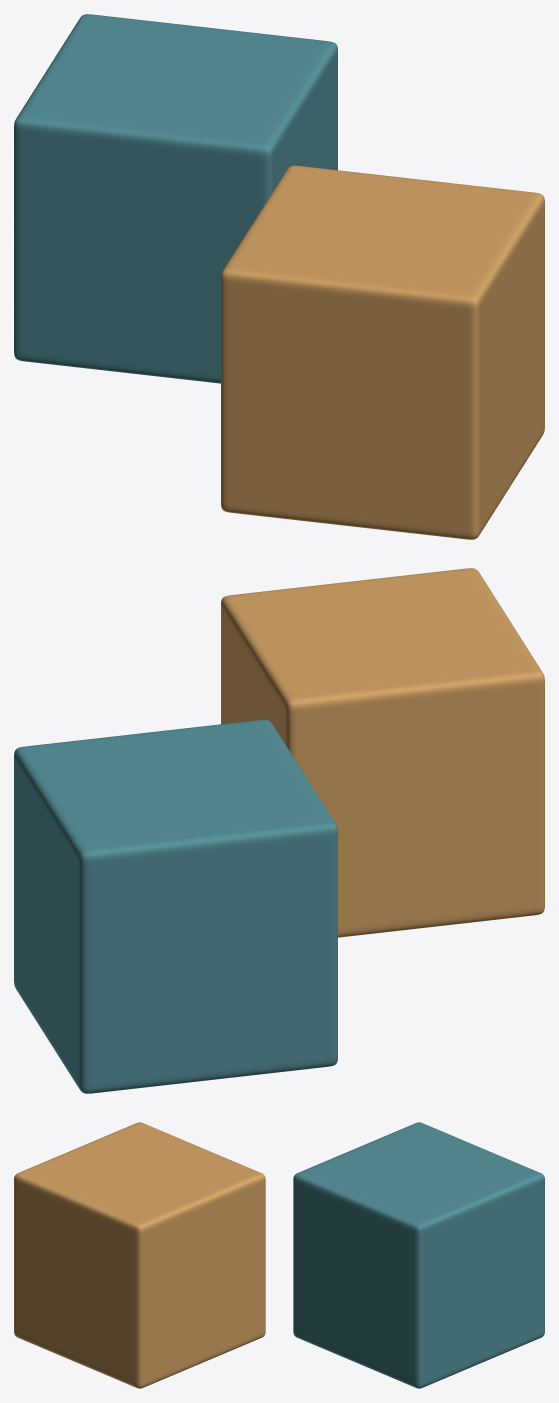
The model's file is 2Cubos.fbx.
3 views of the same model, one above another, from view 1: azimuth 30°, elevation 25°; view 2: azimuth 150°, elevation 25°; view 3: azimuth 270°, elevation 25° (orthographic). The views are drawn at different scales.
Visible parts, largest first — view 1: Rounded Cube003, Rounded Cube004; view 2: Rounded Cube004, Rounded Cube003; view 3: Rounded Cube003, Rounded Cube004.
Part boxes in pixels (<box>): Rounded Cube003: <box>221,165,544,539</box>; Rounded Cube004: <box>14,14,337,383</box>; Rounded Cube004: <box>14,719,337,1093</box>; Rounded Cube003: <box>221,568,544,937</box>; Rounded Cube003: <box>14,1122,265,1388</box>; Rounded Cube004: <box>293,1122,544,1388</box>.
Bounding box in the file's own units: 108 × 228 × 77.71.
